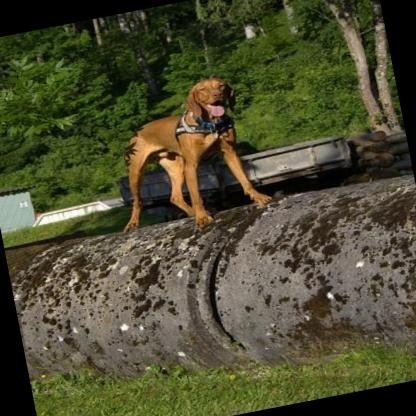vizsla: (96, 70, 274, 238)
